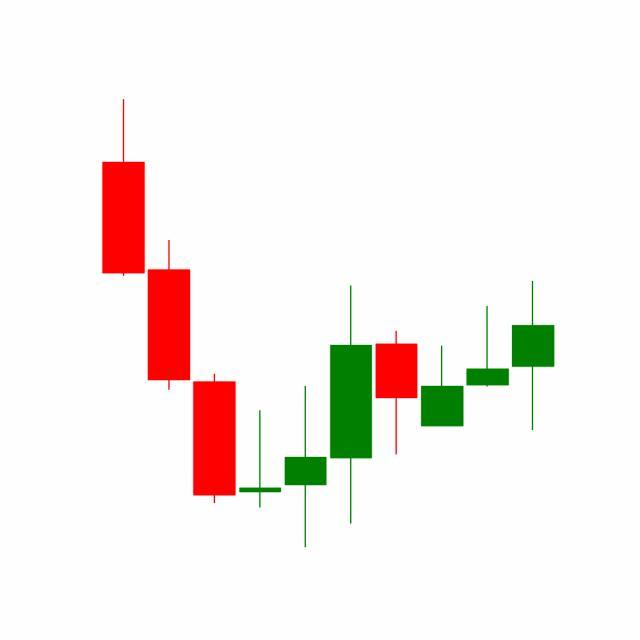Hikkake Pattern: (283, 282, 512, 549)
